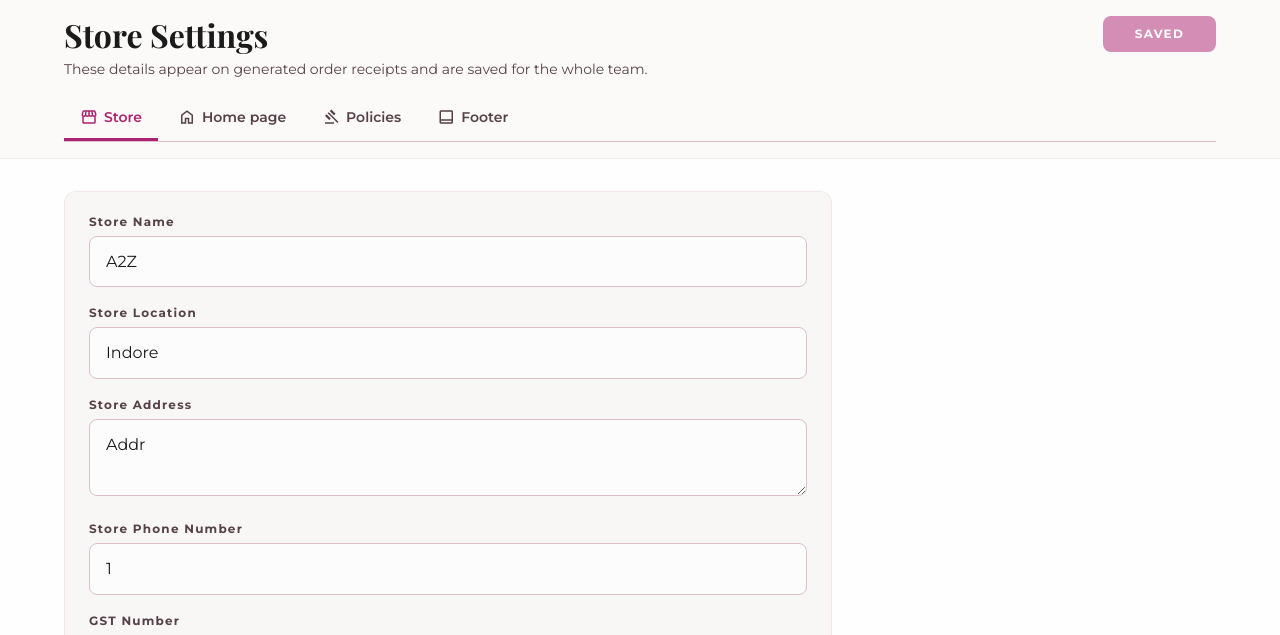
Scenario: Store Settings tabs › groups the settings into four tabs and shows only the active section
Expected: the field labelled "Store Name" is shown, [89,236,807,287]
Expected: the field labelled "Default for every page" is not shown
Click the tab "Footer". click: (473, 119)
box: [421,97,524,141]
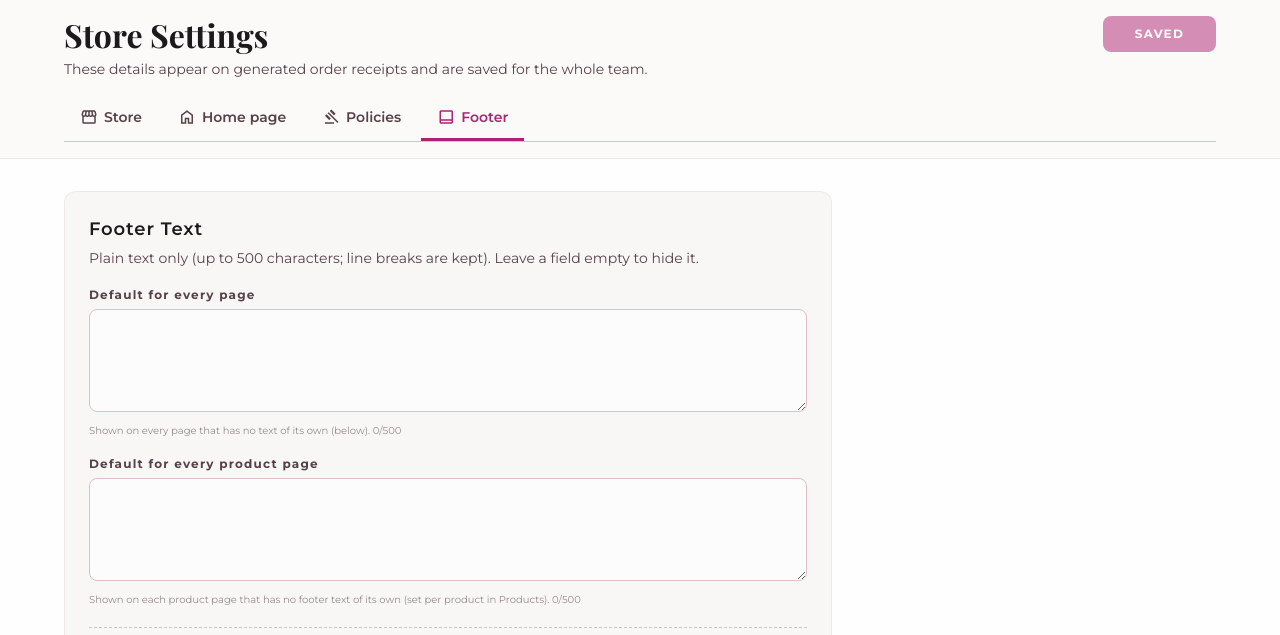
Expected: the text box labelled "Default for every page" is shown, [89,309,807,412]
Expected: the label labelled "Store Name" is gone
